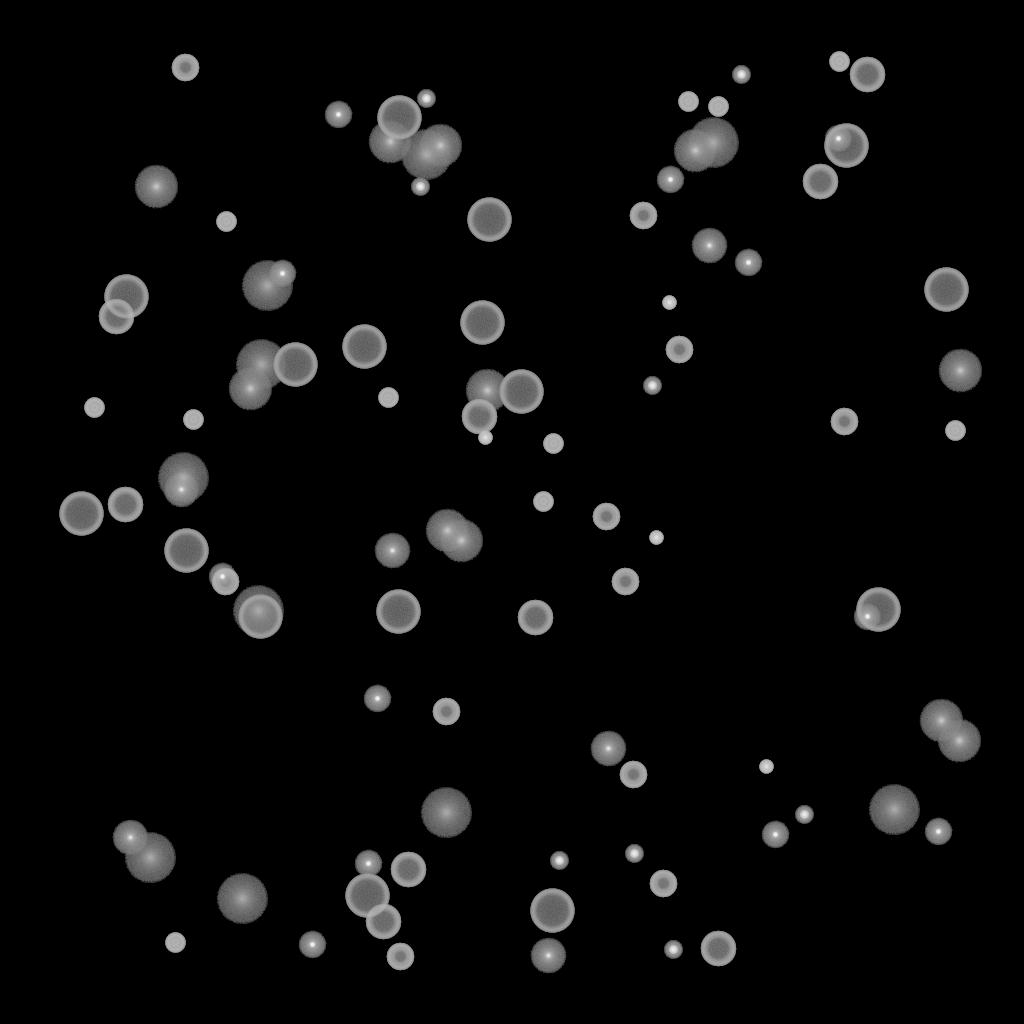depth:-10: (734, 249, 762, 277), (853, 603, 881, 631), (761, 821, 789, 849), (298, 931, 326, 959), (268, 260, 296, 288), (354, 850, 382, 878), (208, 563, 236, 591), (363, 685, 391, 713), (324, 101, 352, 129), (656, 166, 684, 194), (924, 818, 952, 846), (824, 125, 852, 153)
depth:-20: (795, 806, 813, 824), (643, 377, 661, 395), (417, 90, 435, 108), (411, 178, 429, 196), (550, 852, 568, 870), (664, 941, 682, 959), (732, 66, 750, 84), (625, 845, 643, 863)
depth:-30: (649, 531, 663, 545), (662, 296, 676, 310), (759, 760, 773, 774), (478, 431, 492, 445)
depth:-40: (829, 52, 849, 72), (533, 492, 553, 512), (183, 410, 203, 430), (378, 388, 398, 408), (678, 92, 698, 112), (708, 97, 728, 117), (543, 434, 563, 454), (165, 933, 185, 953), (945, 421, 965, 441), (84, 398, 104, 418), (216, 212, 236, 232)
depth:-50: (649, 870, 677, 898), (629, 202, 657, 230), (619, 761, 647, 789), (665, 336, 693, 364), (611, 568, 639, 596), (830, 408, 858, 436), (592, 503, 620, 531), (211, 568, 239, 596), (432, 698, 460, 726), (386, 943, 414, 971), (171, 54, 199, 82)
depth:-60: (700, 931, 736, 967), (365, 904, 401, 940), (461, 399, 497, 435), (802, 164, 838, 200), (849, 57, 885, 93), (517, 600, 553, 636), (98, 299, 134, 335), (390, 852, 426, 888), (107, 487, 143, 523)
depth:-70: (924, 268, 968, 312), (377, 96, 421, 140), (530, 889, 574, 933), (345, 874, 389, 918), (499, 370, 543, 414), (238, 595, 282, 639), (273, 343, 317, 387), (59, 492, 103, 536), (104, 275, 148, 319), (856, 588, 900, 632), (824, 124, 868, 168), (342, 325, 386, 369), (376, 590, 420, 634), (164, 529, 208, 573), (460, 301, 504, 345), (467, 198, 511, 242)
depth:0: (374, 533, 410, 569), (691, 228, 727, 264), (590, 731, 626, 767), (530, 938, 566, 974), (163, 472, 199, 508), (112, 820, 148, 856)
depth:10: (228, 367, 272, 411), (134, 165, 178, 209), (465, 369, 509, 413), (919, 699, 963, 743), (673, 129, 717, 173), (439, 519, 483, 563), (368, 120, 412, 164), (418, 124, 462, 168), (938, 349, 982, 393), (425, 509, 469, 553), (937, 719, 981, 763)
depth:20: (420, 788, 472, 838), (687, 118, 739, 168), (400, 130, 452, 180), (235, 340, 287, 390), (868, 785, 920, 835), (232, 586, 284, 636), (216, 874, 268, 924), (124, 833, 176, 883), (241, 261, 293, 311), (157, 453, 209, 503)
